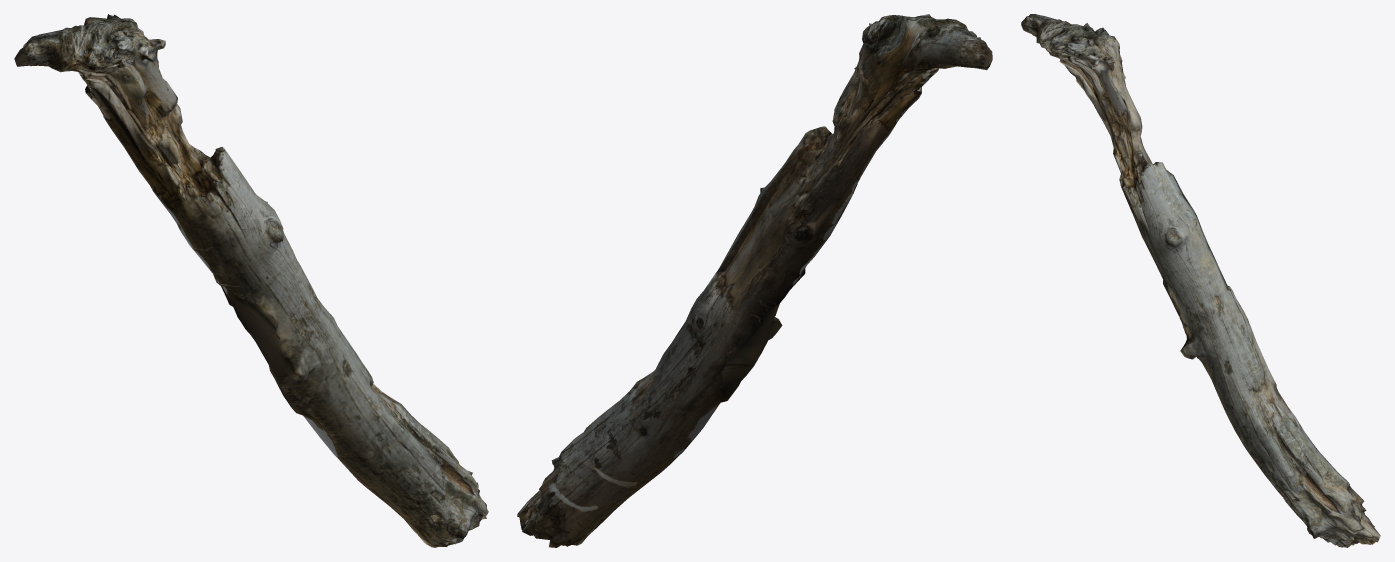
The model's file is Branch.obj.
3 views of the same model, side by side, from view 1: azimuth 30°, elevation 25°; view 2: azimuth 150°, elevation 25°; view 3: azimuth 330°, elevation 25° (orthographic). The views are drawn at different scales.
Visible parts, largest first — view 1: Branch; view 2: Branch; view 3: Branch.
Boxes of the visible parts, x1,y1,x2,y2 form: Branch: (14, 14, 488, 547); Branch: (517, 14, 992, 547); Branch: (1021, 14, 1380, 547).
Bounding box in the file's own units: 0.3868 × 0.4793 × 0.073.
